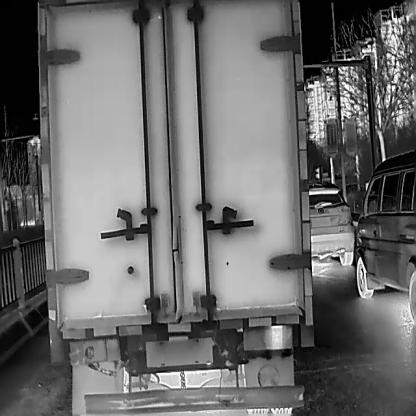car: (354, 148, 416, 323), (307, 180, 355, 268)
truck: (27, 0, 317, 415)
